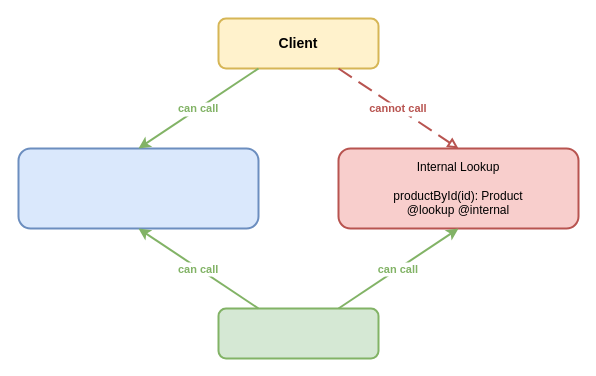
Some shapes in this 596 by 376 pixel diagram are drawn without their labels. The centre of each missing label's shape, as x and y in pixels:
"Fusion Gateway" belongs at [298,333].
"Public Lookup productById(id): Product @lookup" belongs at [138,188].
